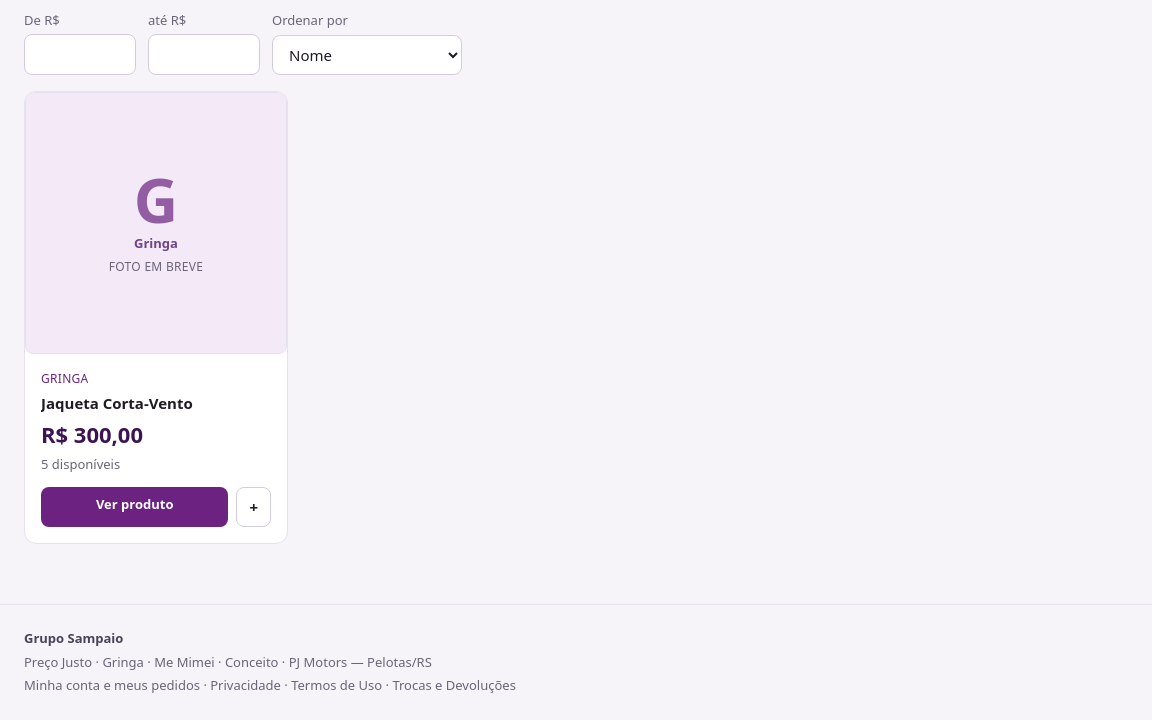
it: o cupom na gaveta do carrinho › remover o cupom volta o total
The image size is (1152, 720).
(page scrolled)
Check: the text "Jaqueta Corta-Vento" is shown, box [41,392,193,412]
Click the button "+" at (254, 507), box [236,486,271,527]
(page scrolled)
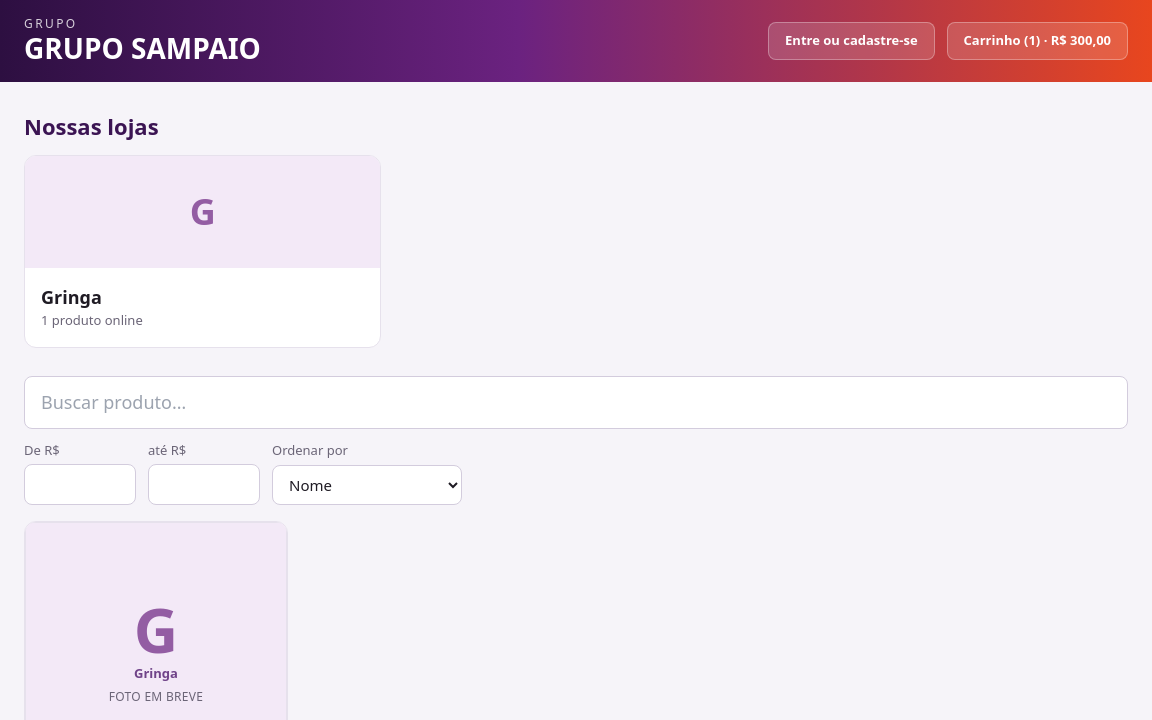
Click the button "Carrinho (1) · R$ 300,00" at (1037, 41), box [947,22,1128,60]
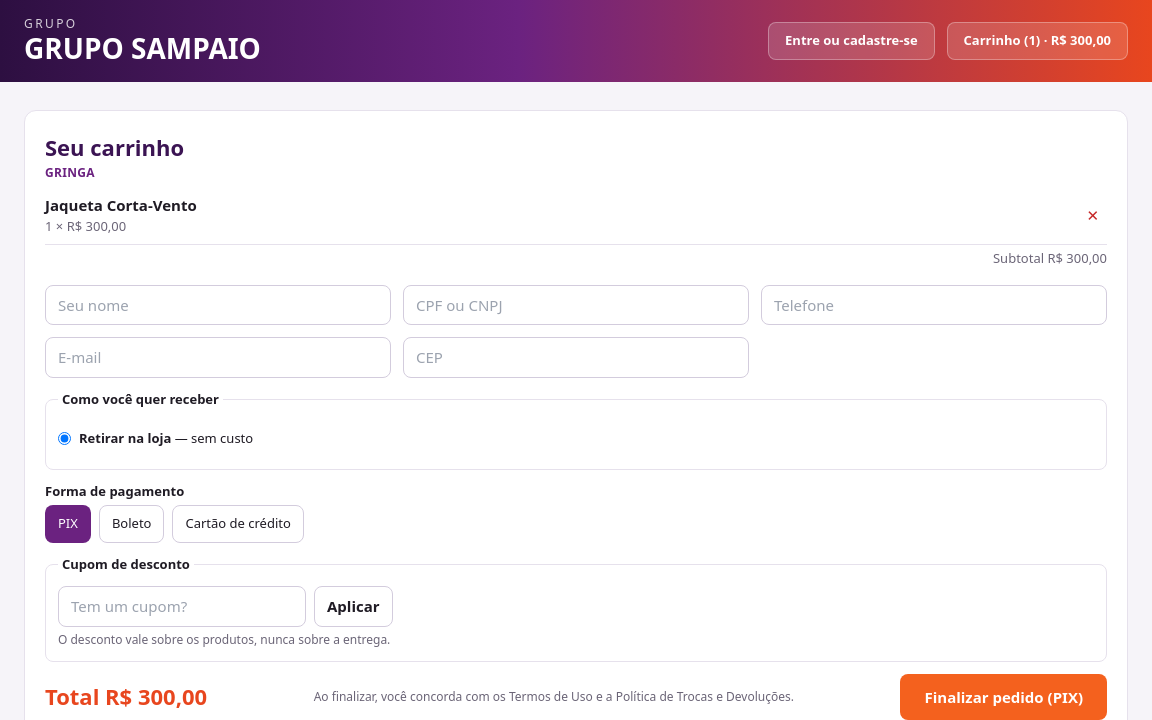
Check: the text "Retirar na loja" is shown, box [79,429,171,447]
Type "DEZ" into the field named "Código do cupom" at (182, 606), box [58,586,306,626]
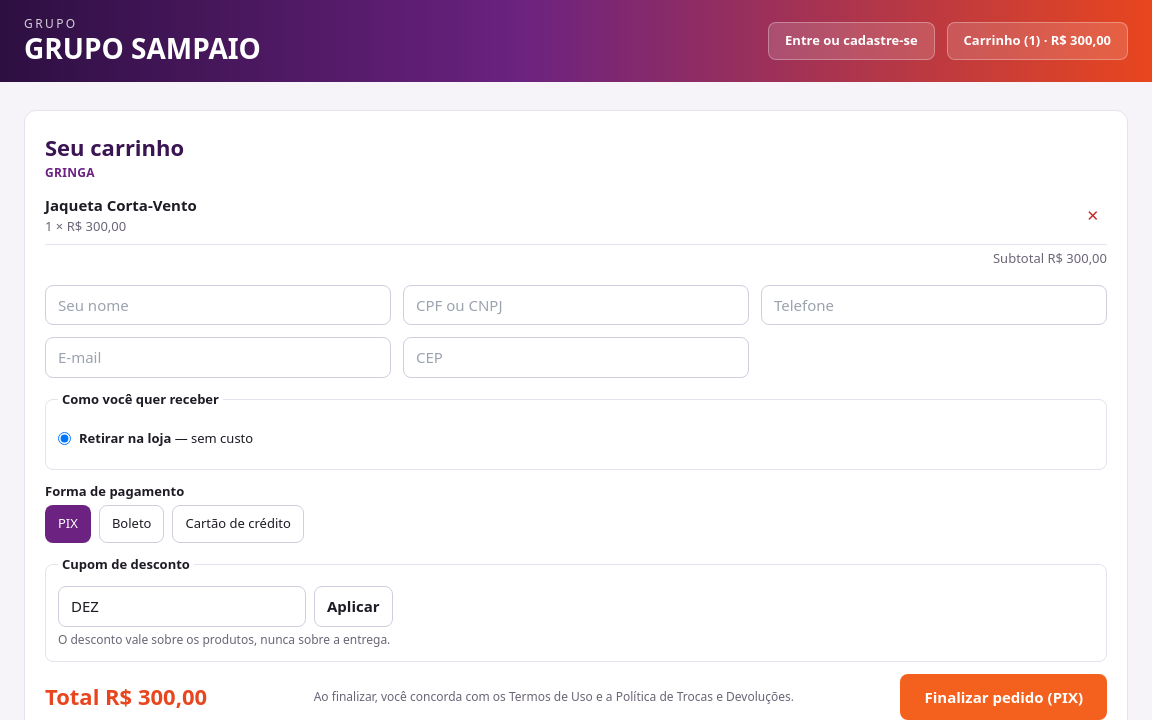
Click the button "Aplicar" at (353, 606), box [314,586,393,626]
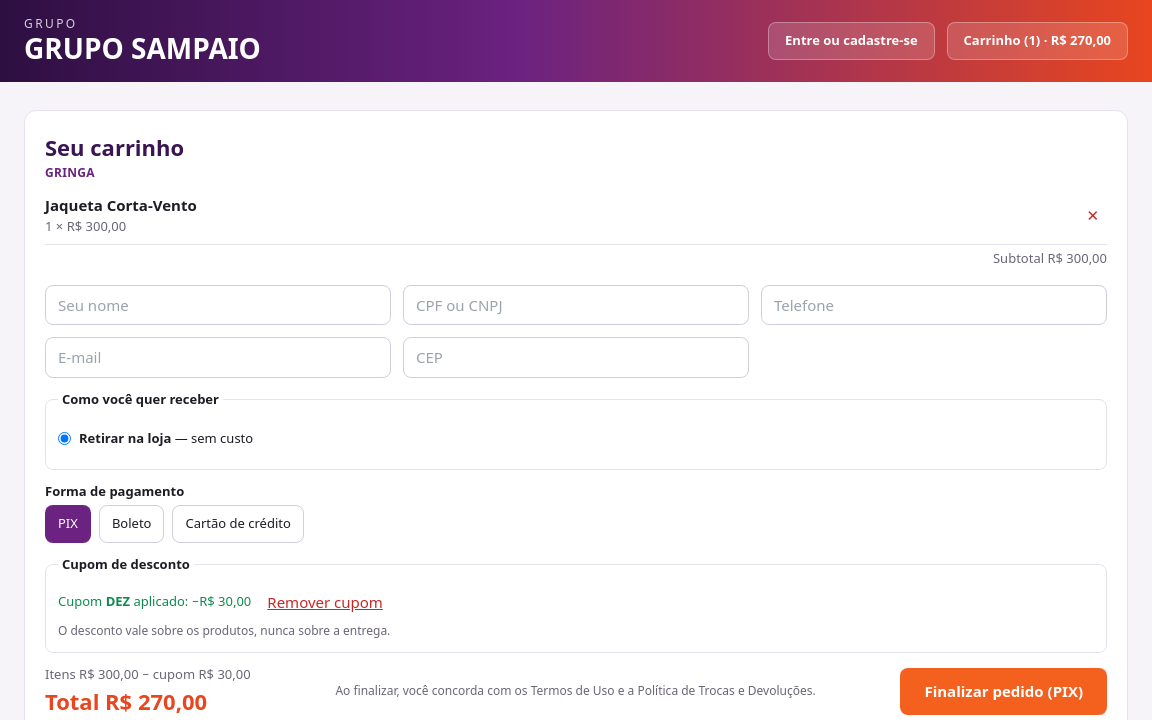
Check: the text "Cupom DEZ aplicado: −R$ 30,00" is shown, box [58,592,251,612]
Click the button "Remover cupom" at (325, 602), box [263,586,387,618]
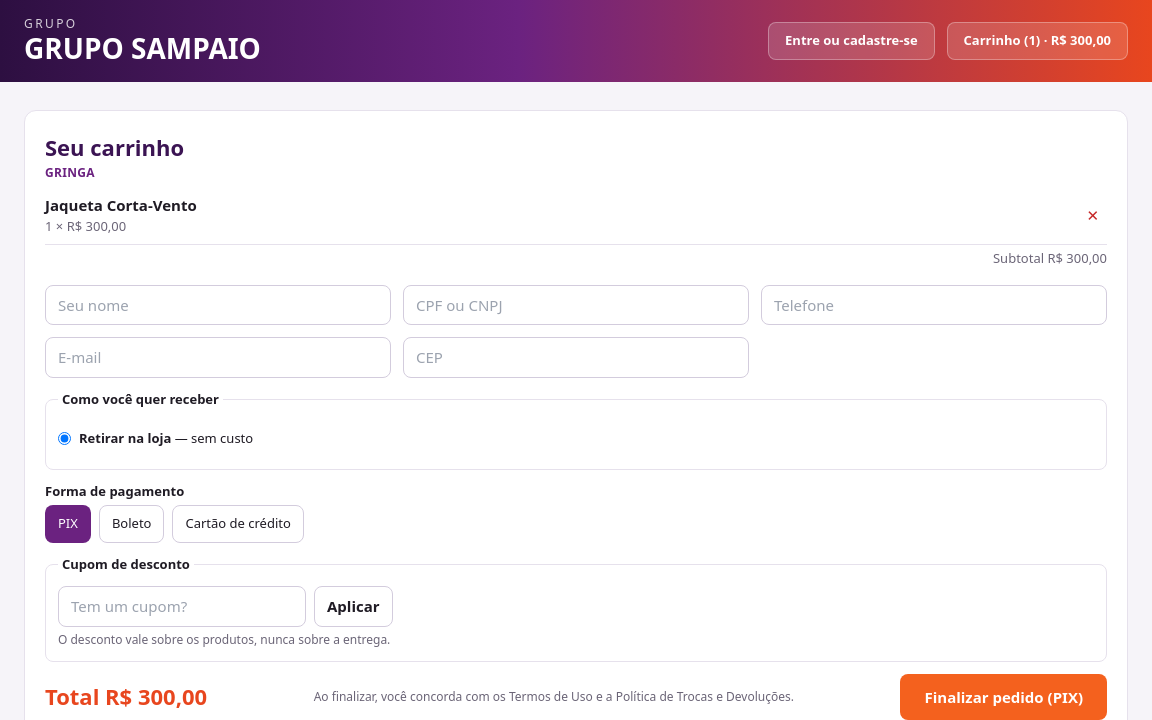
Check: the text "Total R$ 300,00" is shown, box [45,680,207,713]
Check: the text "aplicado:" is gone
